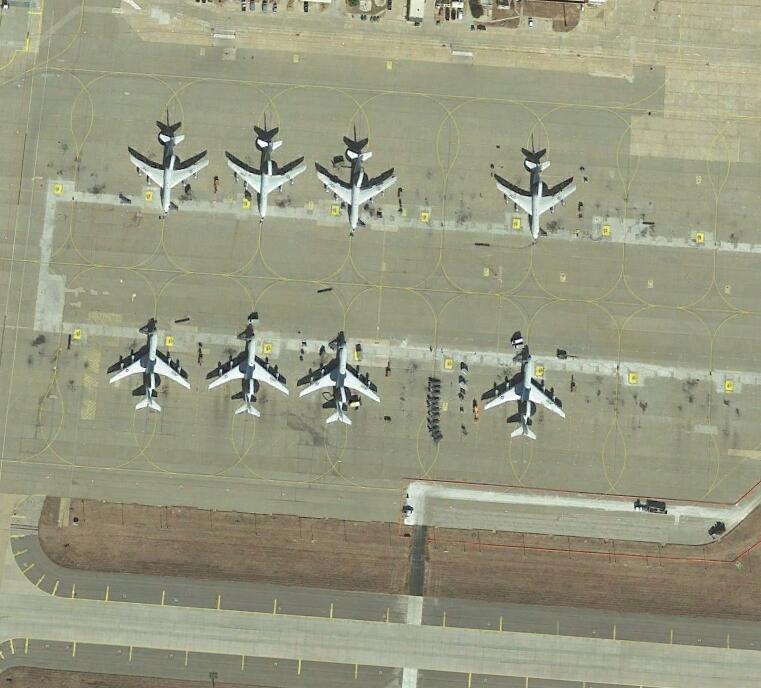A7: (108, 325, 193, 414), (481, 350, 565, 439), (210, 330, 290, 418), (300, 340, 382, 424), (495, 161, 577, 241), (127, 132, 209, 211), (226, 139, 305, 218), (316, 152, 396, 228)
